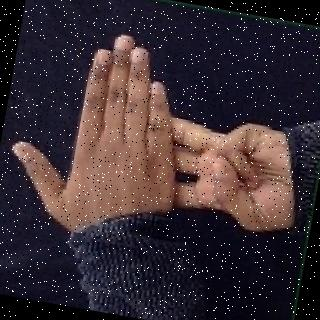M: (2, 36, 300, 269)
